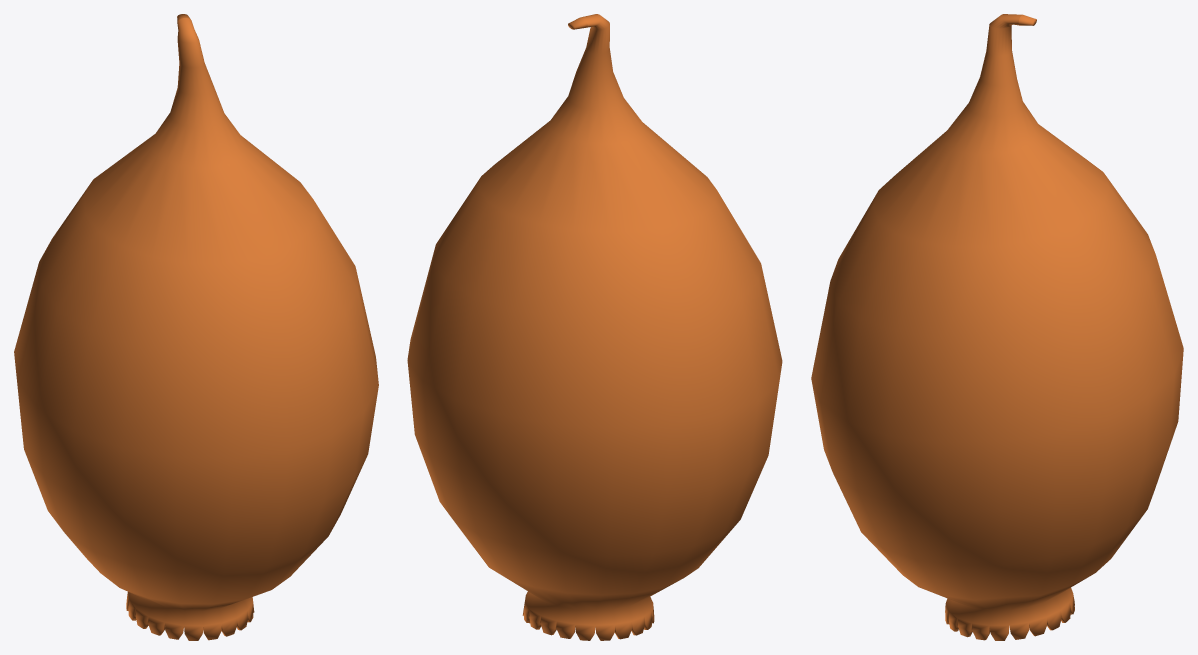
The model's file is Onion.fbx.
The picture shows the model from 3 angles, left to right: view 1: azimuth 30°, elevation 25°; view 2: azimuth 150°, elevation 25°; view 3: azimuth 270°, elevation 25°; orthographic projection. The views are drawn at different scales.
Visible parts, largest first — view 1: Onion; view 2: Onion; view 3: Onion.
Part boxes in pixels (<box>): Onion: <box>14,14,378,640</box>; Onion: <box>407,14,782,640</box>; Onion: <box>811,14,1183,640</box>.
Bounding box in the file's own units: 131 × 234 × 131.
